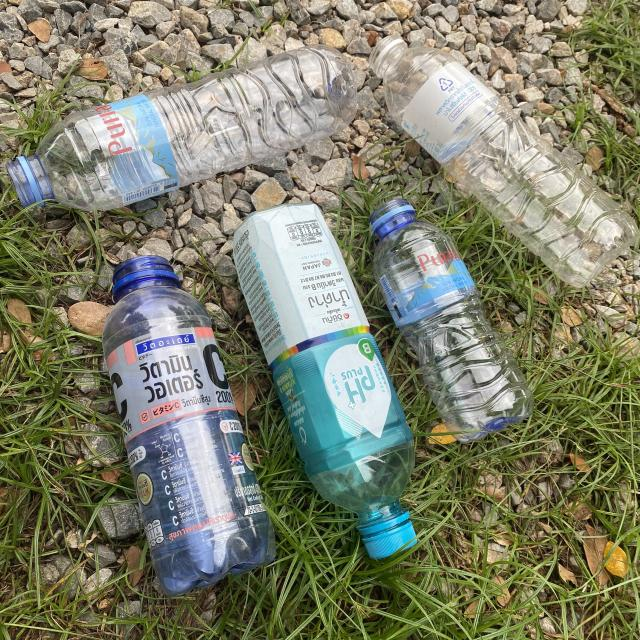plastik: (369, 35, 639, 288), (234, 204, 415, 559), (102, 256, 275, 596), (6, 45, 356, 211), (370, 199, 534, 442)
